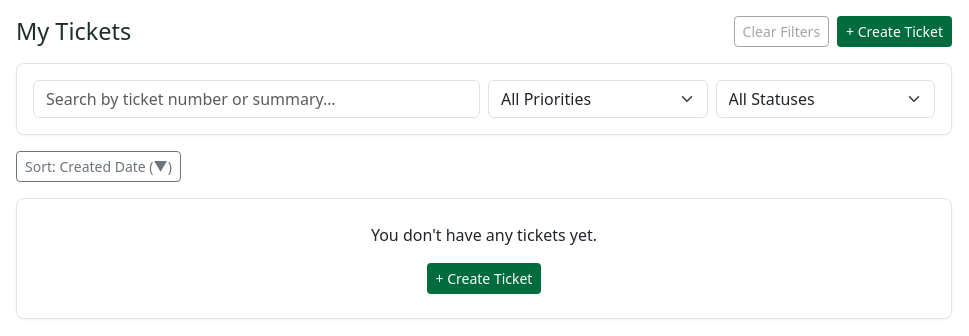
Test: TicketsPlaceholder (My Tickets) › shows the no-results state when a search/filter matches nothing (BR-30)
This screenshot has width=969, height=336.
In the field named "search tickets": (256, 99) [33,80,480,118], type "nonexistent"
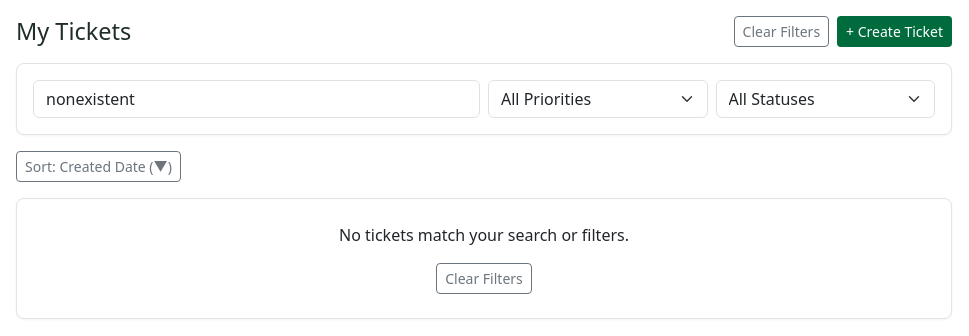
Now the text "No tickets match your search or filters." is shown, box [339,224,629,246]
